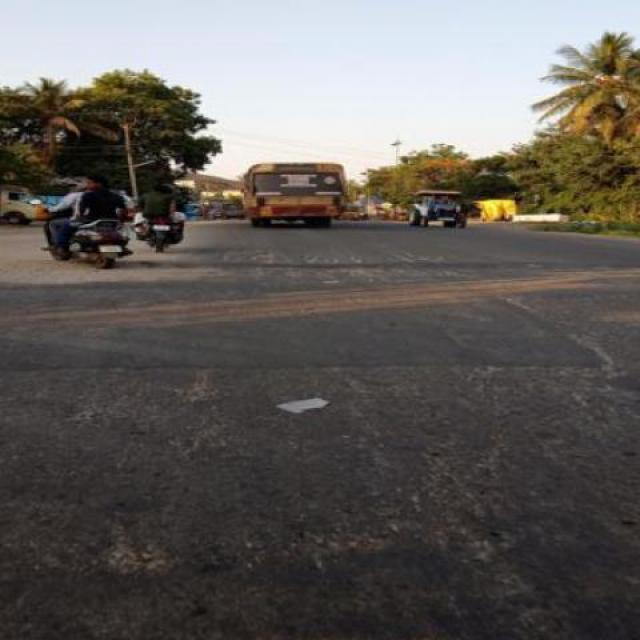Unmarked Bump: (161, 258, 638, 272)
